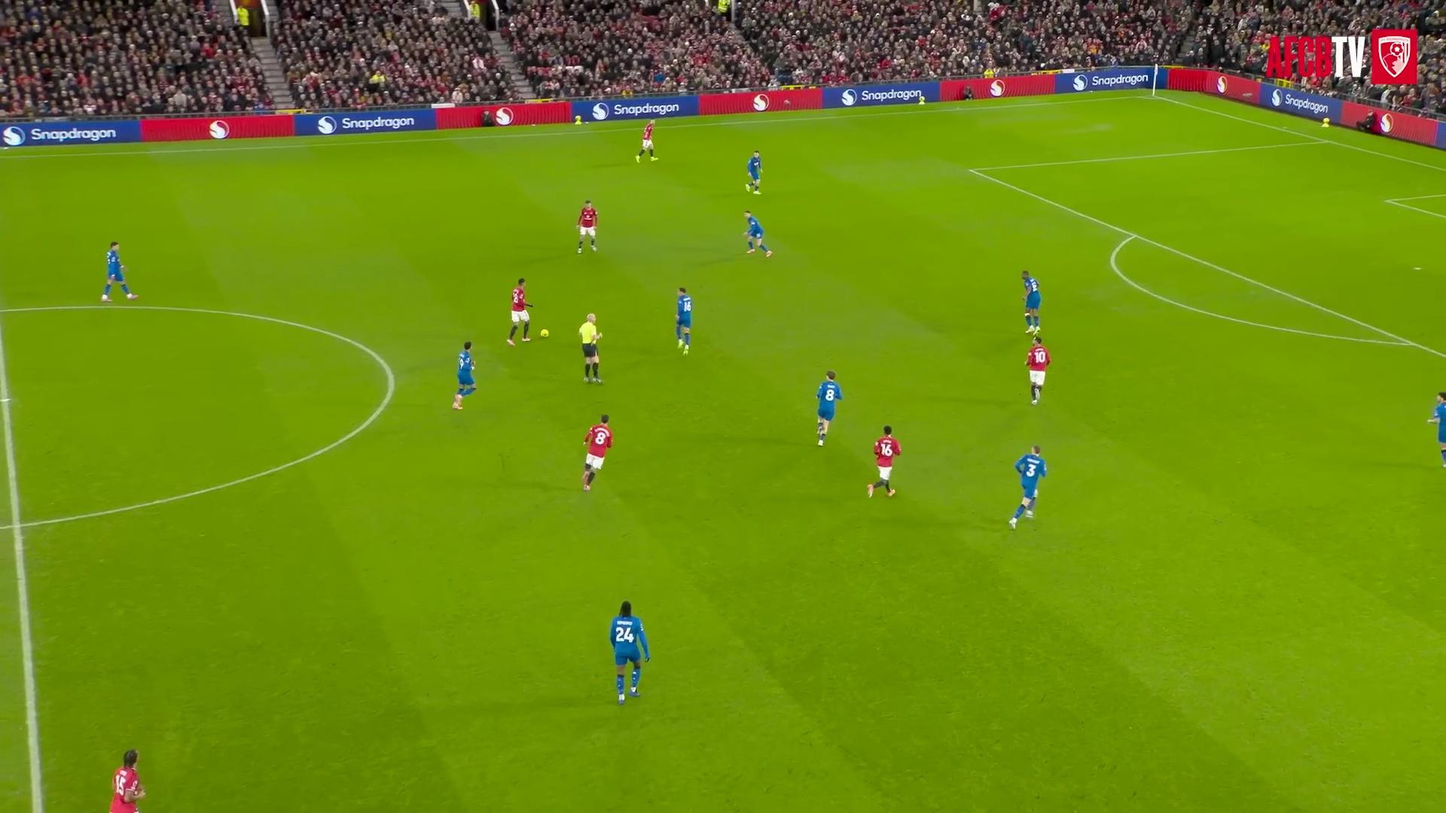football: (539, 329, 548, 337)
player: (609, 601, 649, 704), (1009, 446, 1046, 528), (868, 426, 901, 497), (582, 415, 612, 490), (101, 242, 138, 302), (110, 749, 145, 812), (816, 371, 842, 446), (1027, 333, 1051, 404), (507, 278, 532, 346), (453, 341, 476, 410), (745, 210, 771, 256), (1429, 391, 1445, 465), (1021, 271, 1040, 333), (577, 199, 597, 254), (676, 287, 692, 355), (636, 120, 657, 162), (746, 151, 761, 193)
referee: (578, 314, 602, 383)
